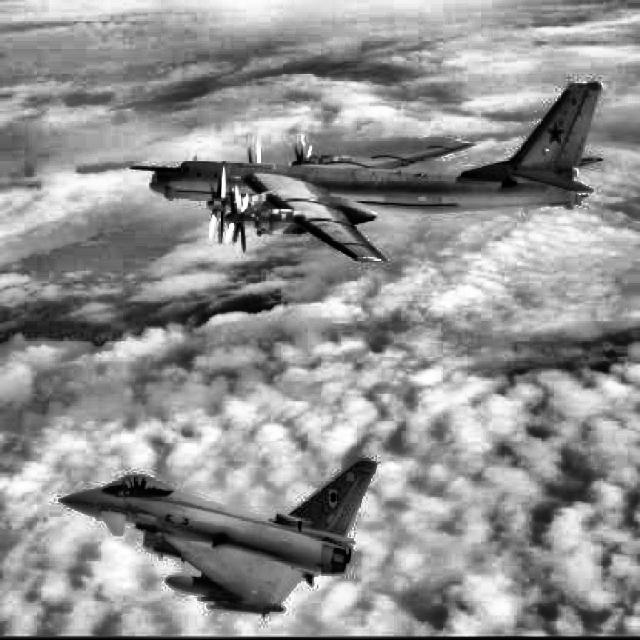EF2000: (58, 458, 377, 618)
Tu95: (130, 77, 604, 263)
